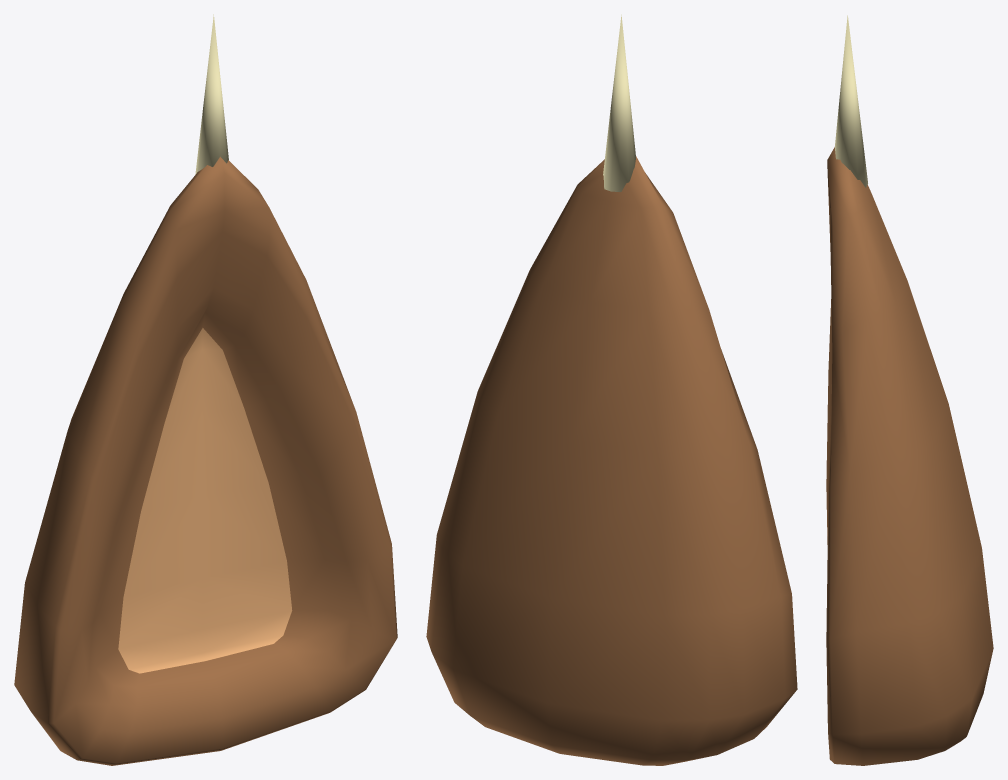
The model's file is Evil Ear.fbx.
The picture shows the model from 3 angles, left to right: view 1: azimuth 30°, elevation 25°; view 2: azimuth 150°, elevation 25°; view 3: azimuth 270°, elevation 25°; orthographic projection. The views are drawn at different scales.
Parts seen in each view (by area): view 1: Evil Ear - imohamed7 (PercyCreeper); view 2: Evil Ear - imohamed7 (PercyCreeper); view 3: Evil Ear - imohamed7 (PercyCreeper).
Part boxes in pixels (left/top/right/bottom): Evil Ear - imohamed7 (PercyCreeper): left=14, top=14, right=397, bottom=765; Evil Ear - imohamed7 (PercyCreeper): left=426, top=14, right=797, bottom=765; Evil Ear - imohamed7 (PercyCreeper): left=826, top=15, right=993, bottom=765.
Bounding box in the file's own units: 28.8 × 57.08 × 12.19.
